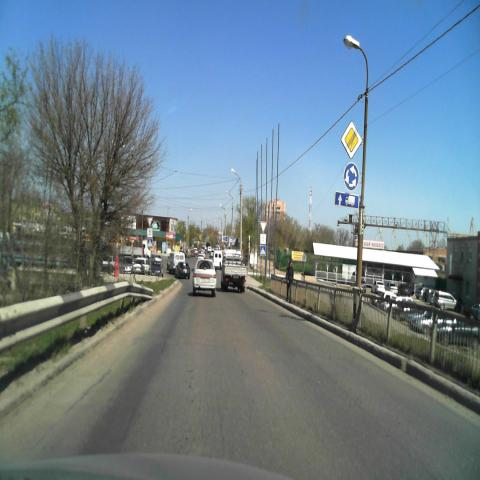4_3: (343, 162, 359, 191)
6_15_1: (334, 192, 359, 208)
